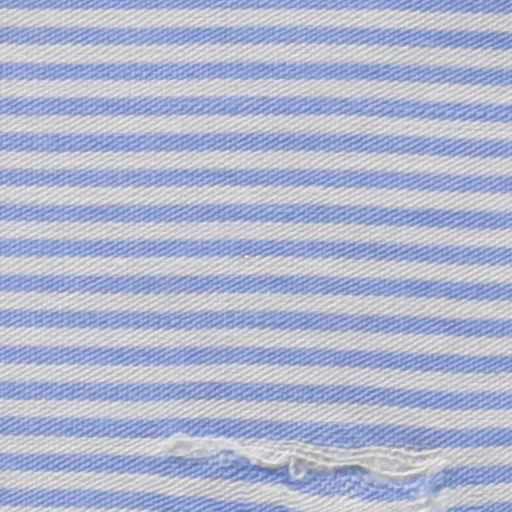defect: (163, 430, 457, 512)
